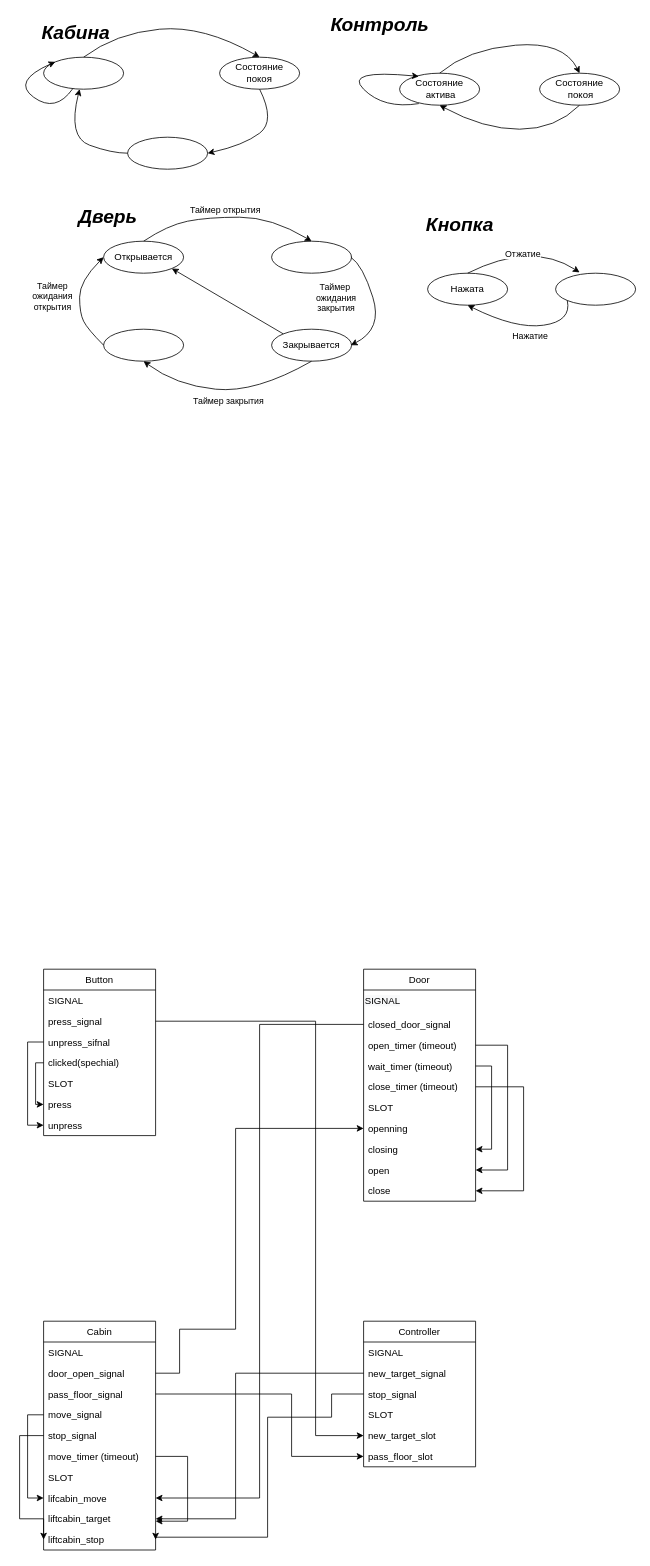
Image size: 650x1566. Some labels were removed from this diagram. Each missing label, with the centre of its shape:
"Движение" belongs at (x=83, y=72).
"Закрыта" belongs at (x=143, y=344).
"Не нажата" belongs at (x=595, y=288).
"Ожидание" belongs at (x=167, y=152).
"Открыта" belongs at (x=311, y=256).
